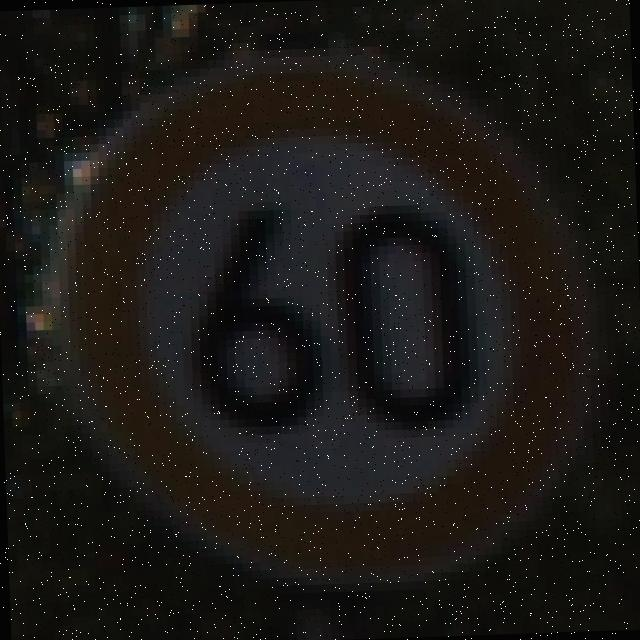Ograniczenie predkosci do 60: (4, 21, 636, 620)
